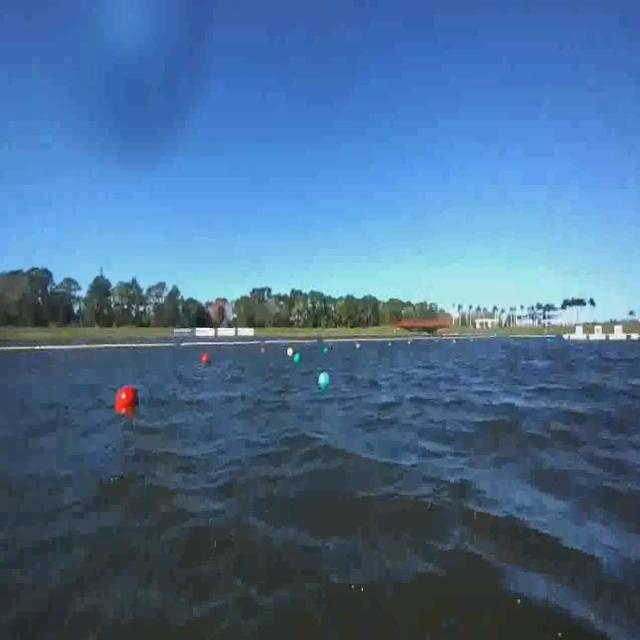green-buoy: (318, 372, 330, 389), (293, 352, 300, 364)
red-buoy: (116, 383, 140, 412), (203, 353, 210, 364)
